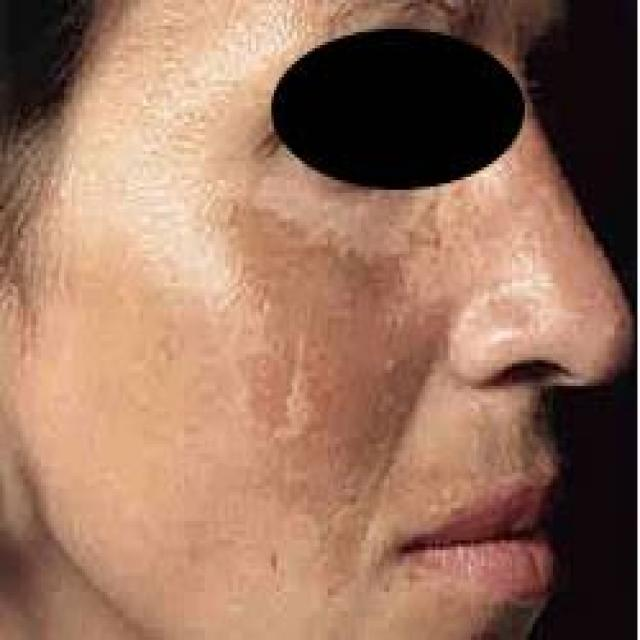pigmentation: (215, 200, 406, 432)
